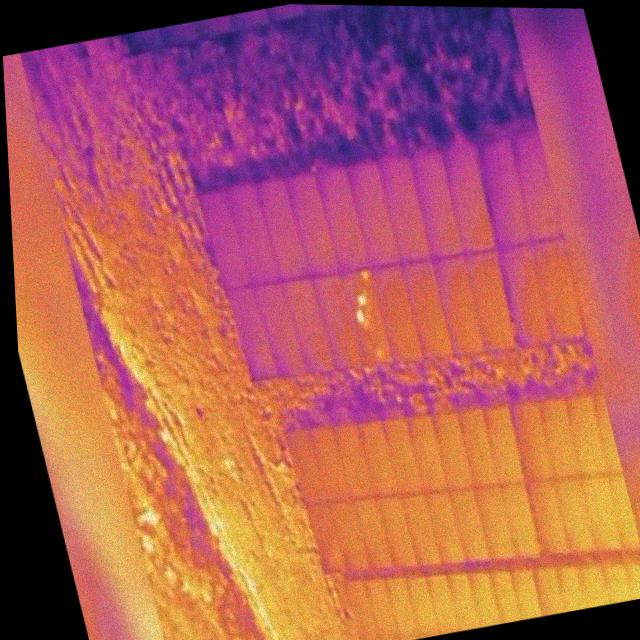Hotspot: (335, 264, 399, 374)
Normal: (471, 133, 541, 252), (405, 144, 474, 264), (458, 244, 527, 358), (373, 151, 439, 270), (280, 168, 345, 283), (366, 258, 432, 370), (194, 182, 258, 296), (278, 271, 341, 378), (328, 420, 381, 507), (478, 402, 531, 489), (428, 408, 479, 497), (421, 486, 471, 571)
